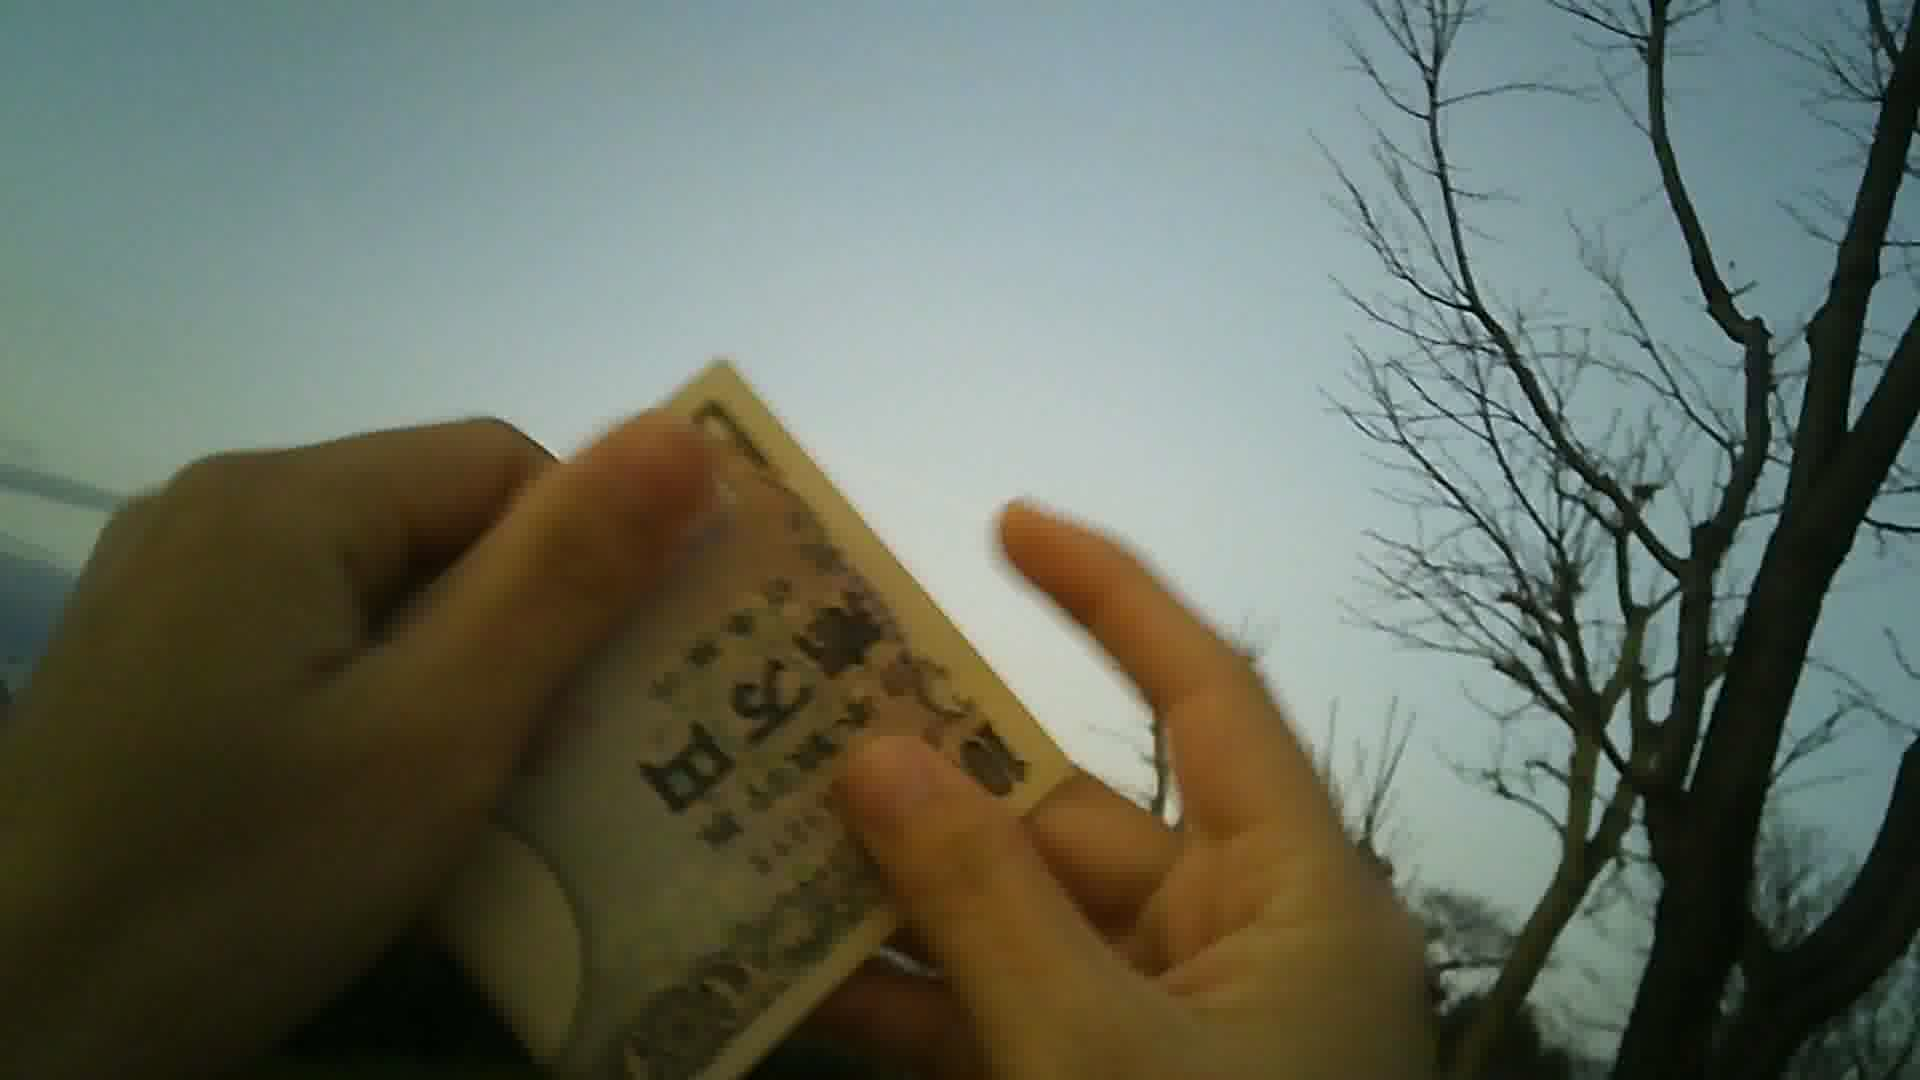10,000 Yen: (331, 356, 1069, 1077)
